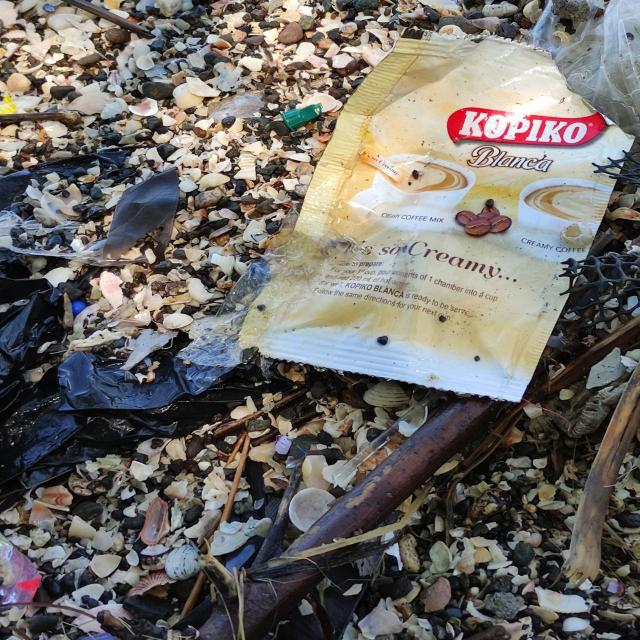plastic_waste: (236, 36, 638, 407)
